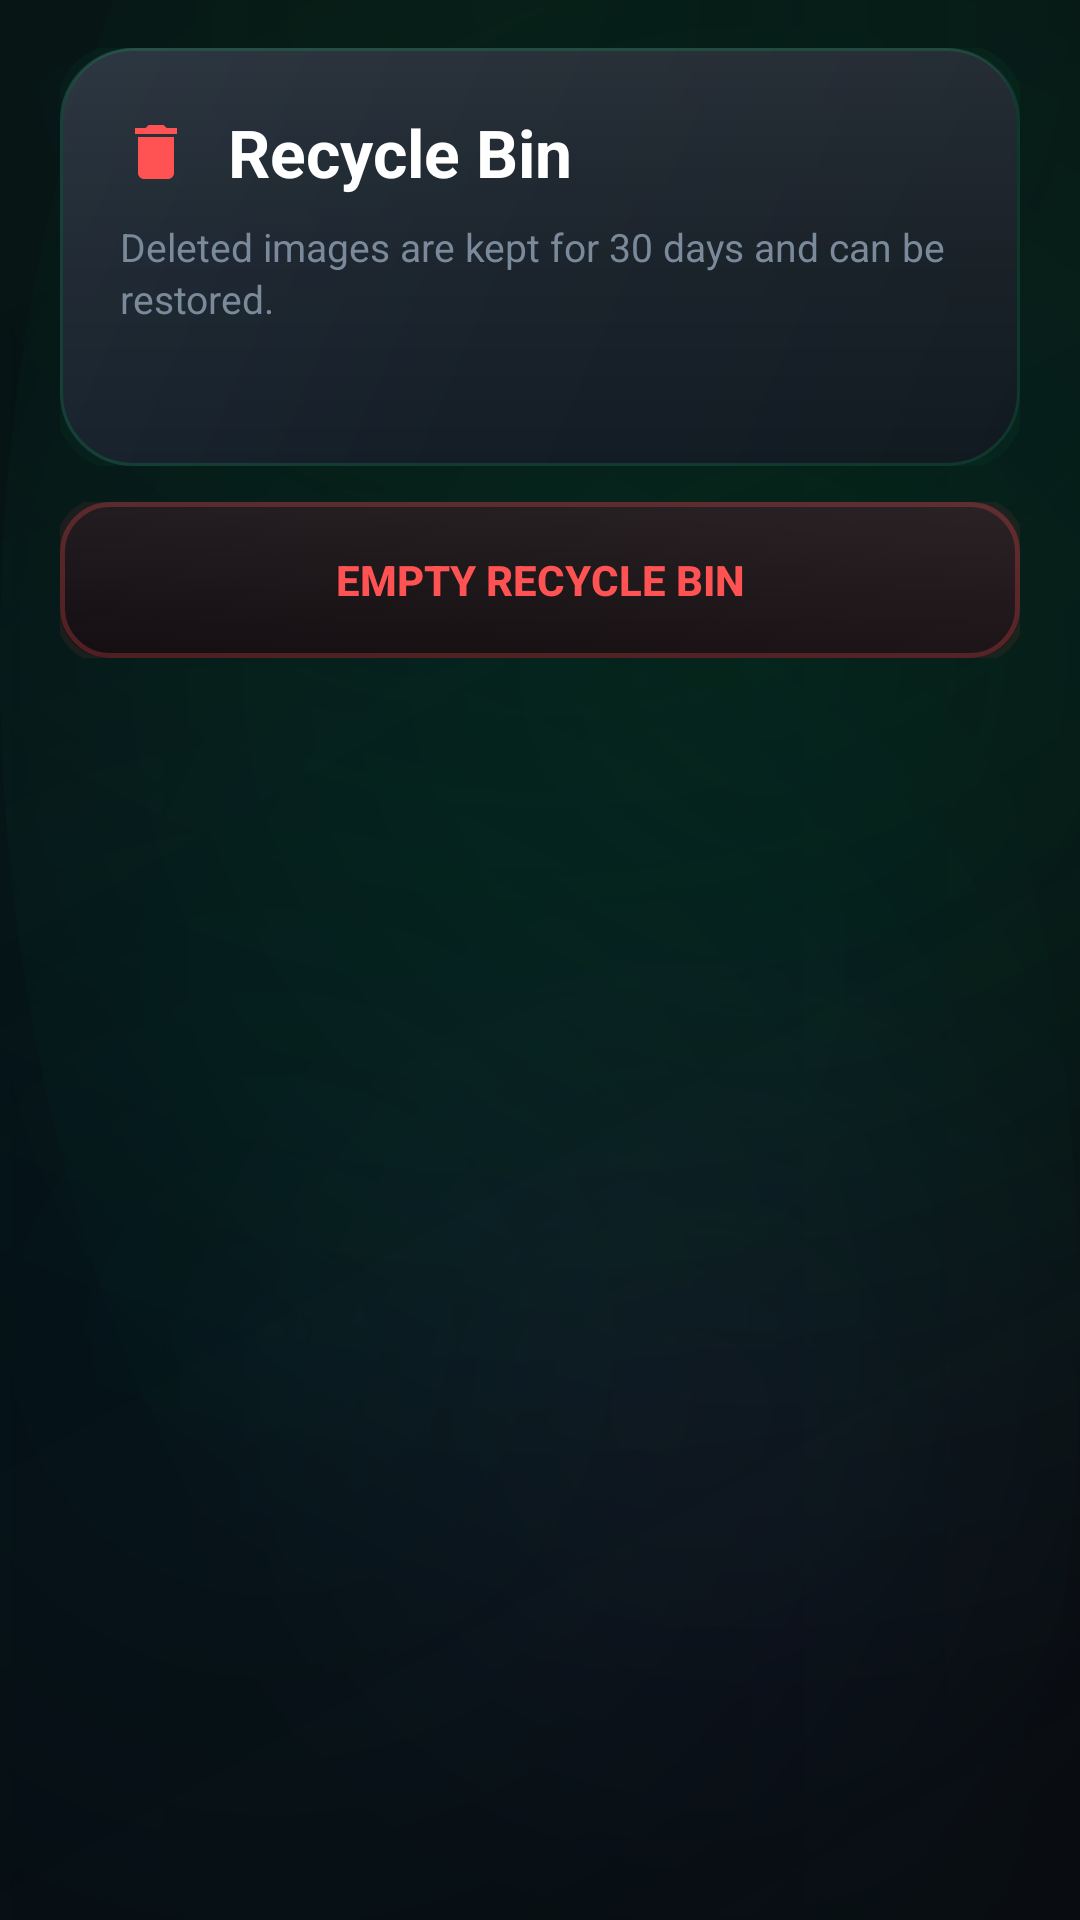

Where to tap for icons on this 1080*1920 app screen, as point (x, y):
trash: point (156, 152)
